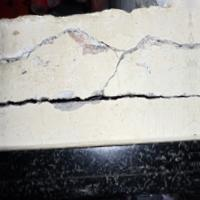crack: (0, 74, 195, 140)
